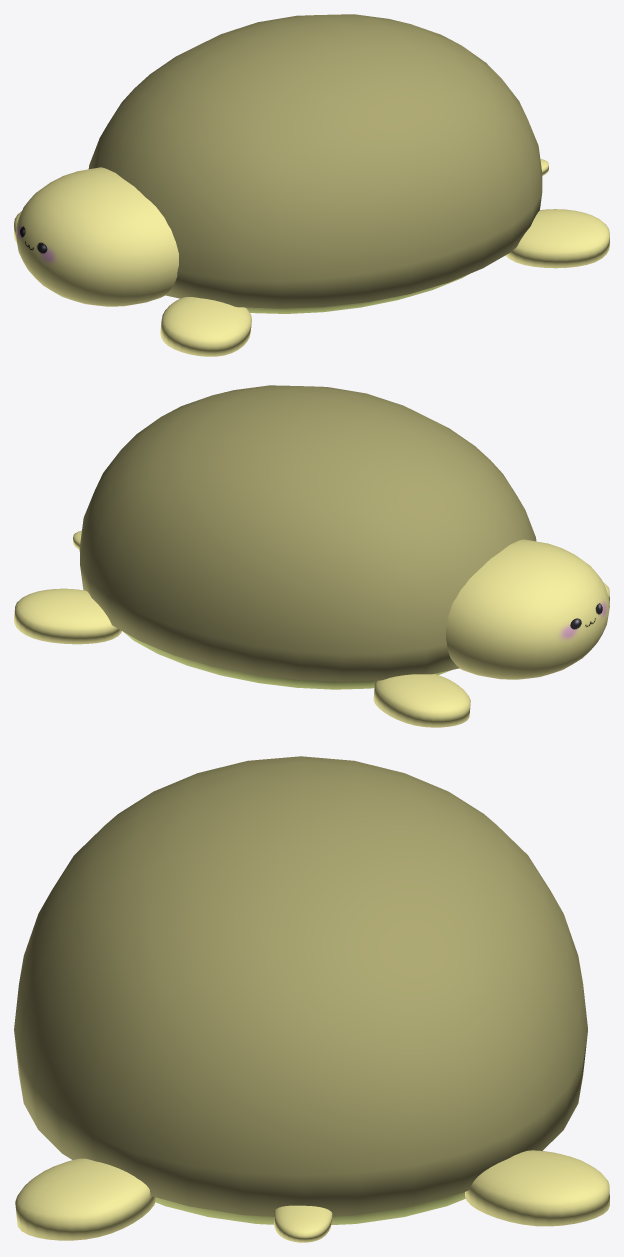
Rendered from turtle2.fbx.
3 renders of one model, top to bottom at view 1: azimuth 30°, elevation 25°; view 2: azimuth 150°, elevation 25°; view 3: azimuth 270°, elevation 25°, orthographic. The views are drawn at different scales.
Visible parts, largest first — view 1: Cube, Cube.001, Cube.006, Cube.007, Cube.002; view 2: Cube, Cube.001, Cube.005, Cube.004, Cube.002; view 3: Cube, Cube.006, Cube.005, Cube.002, Cube.008.
Part boxes in pixels (bbox=[...]): Cube: bbox=[88, 14, 542, 308]; Cube.001: bbox=[15, 167, 178, 306]; Cube.006: bbox=[505, 209, 609, 268]; Cube.007: bbox=[160, 297, 251, 356]; Cube.002: bbox=[246, 274, 469, 313]; Cube: bbox=[79, 385, 536, 681]; Cube.001: bbox=[446, 539, 609, 679]; Cube.005: bbox=[14, 588, 121, 644]; Cube.004: bbox=[373, 674, 470, 727]; Cube.002: bbox=[124, 632, 451, 689]; Cube: bbox=[14, 756, 587, 1216]; Cube.006: bbox=[15, 1158, 156, 1240]; Cube.005: bbox=[465, 1150, 609, 1226]; Cube.002: bbox=[155, 1192, 465, 1224]; Cube.008: bbox=[274, 1205, 332, 1242].
Size of the model in its own units: 328 by 125 by 224.
Materials: 4 (1 with a texture image).
